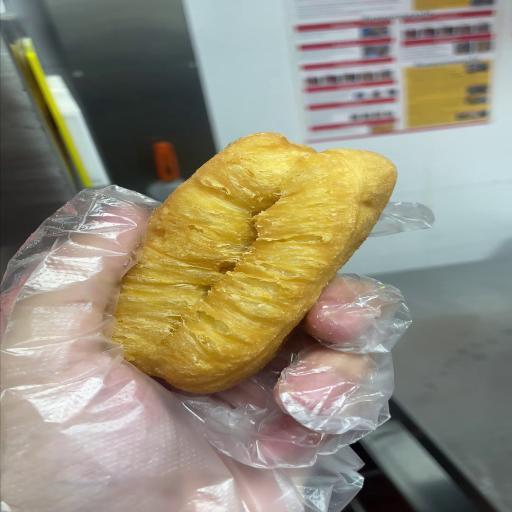brand_golden_good: (112, 133, 396, 393)
